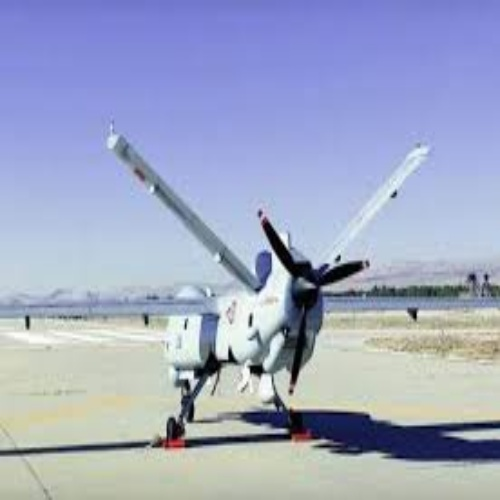uav: (25, 132, 488, 439)
